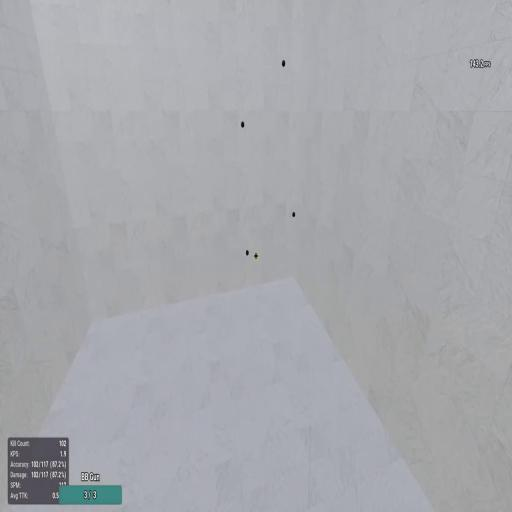Crosshair: (254, 252, 258, 260)
Target: (240, 119, 245, 130), (281, 58, 286, 67), (245, 249, 249, 256), (292, 212, 296, 218)
